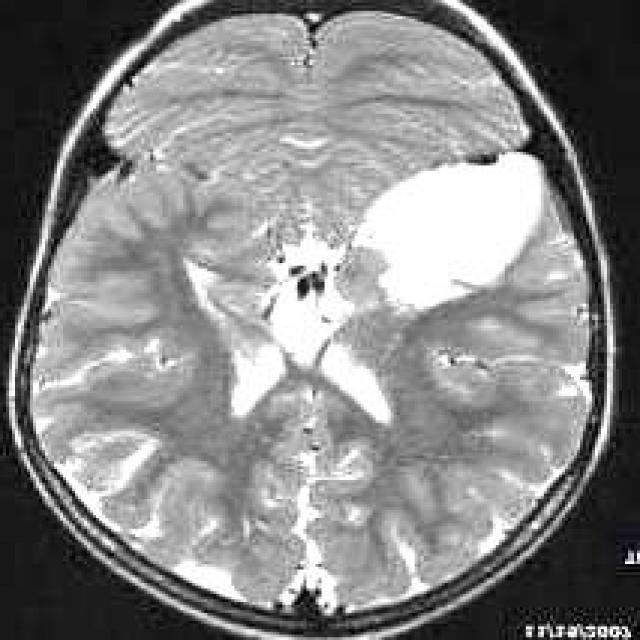tumor: (352, 152, 550, 315)
